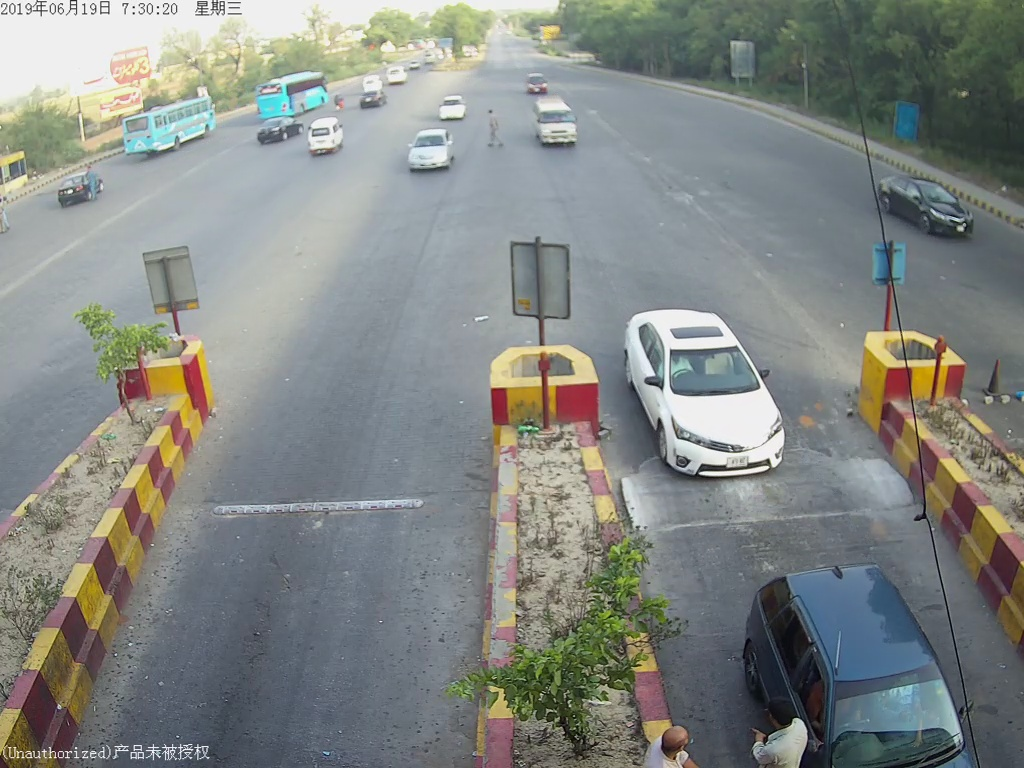Cat-1: (622, 291, 809, 483), (391, 126, 464, 176)
